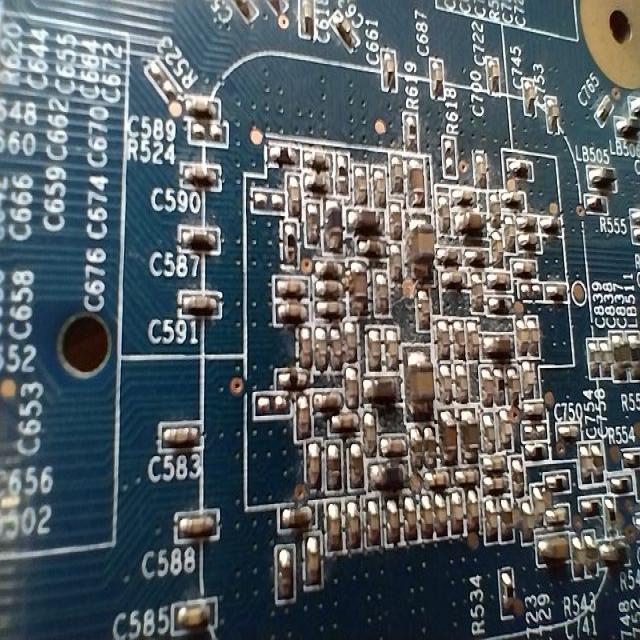capacitor: (167, 589, 238, 640), (410, 346, 441, 431), (167, 507, 211, 544), (172, 228, 226, 256), (369, 492, 397, 546), (403, 158, 430, 211), (402, 223, 441, 259), (280, 170, 307, 222), (322, 496, 347, 552), (373, 442, 420, 471), (173, 166, 223, 193), (178, 291, 226, 319), (158, 420, 202, 449), (482, 314, 510, 358), (343, 444, 366, 495), (486, 264, 518, 299), (450, 271, 486, 302), (301, 540, 325, 586), (362, 326, 386, 372), (310, 383, 348, 412), (255, 399, 289, 431), (382, 332, 402, 385), (452, 355, 473, 405), (357, 418, 386, 454), (175, 98, 222, 120), (464, 491, 485, 537), (302, 204, 326, 244), (453, 491, 472, 539), (303, 443, 325, 484), (426, 490, 445, 536), (442, 412, 458, 466), (475, 418, 497, 457), (398, 503, 419, 543), (542, 532, 572, 560), (458, 240, 489, 267), (434, 248, 467, 273), (350, 207, 389, 228), (270, 276, 309, 296), (343, 506, 361, 548), (280, 298, 310, 323), (510, 218, 541, 242), (326, 444, 341, 491), (278, 550, 294, 594), (322, 408, 354, 430), (300, 319, 311, 383), (519, 319, 537, 357), (436, 359, 451, 404), (277, 502, 319, 518), (376, 268, 393, 304), (308, 155, 333, 174), (390, 508, 404, 541), (352, 160, 366, 188), (481, 372, 493, 399)
resistor: (576, 186, 613, 218), (540, 473, 577, 491), (604, 495, 620, 529), (529, 446, 549, 466)
